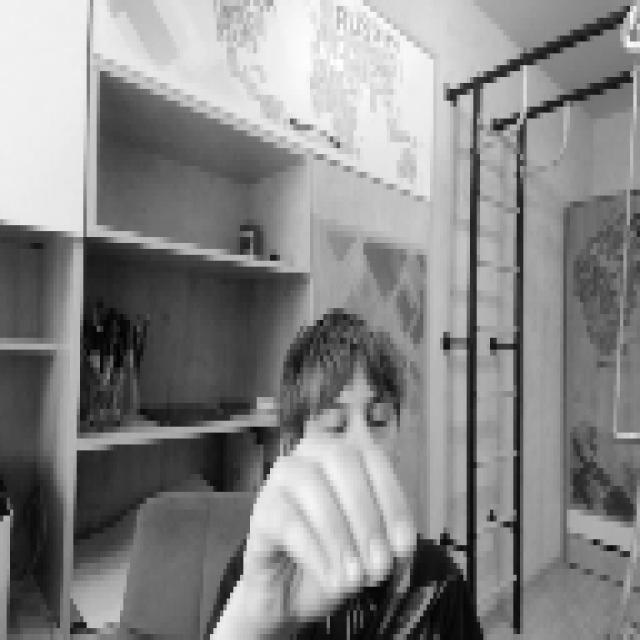left_click: (244, 415, 414, 616)
